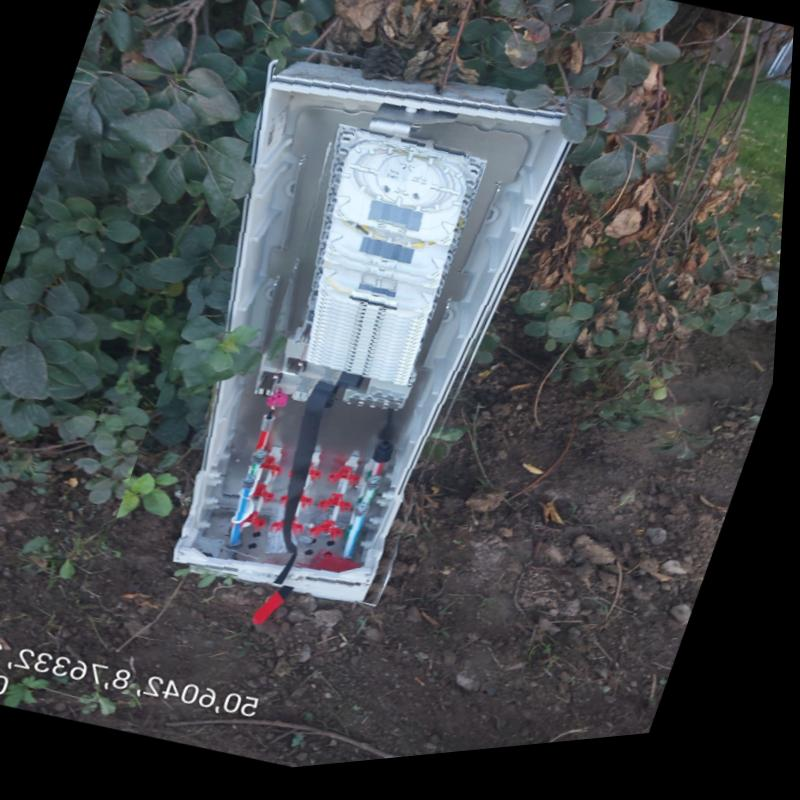NT-Gehause: (184, 68, 567, 608)
Spleiskassetten: (253, 119, 494, 425)
